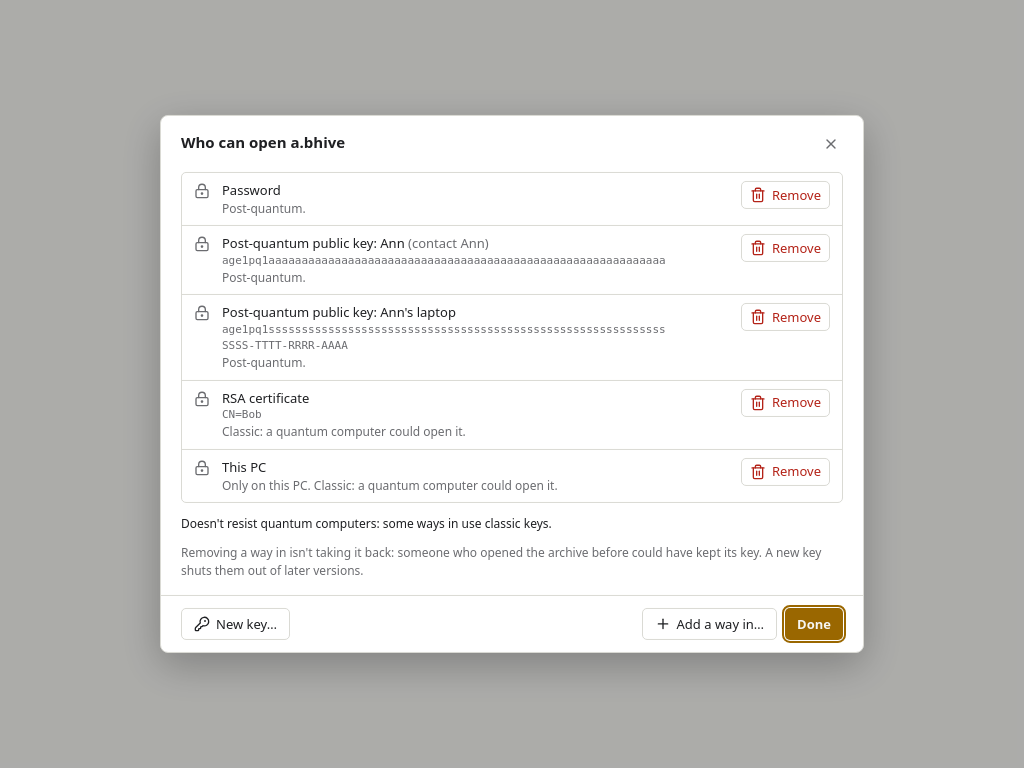
Test: who can open an encrypted .bhive (docs/M14.md §3, §8) › shows a way in's fingerprint when the engine gives one, and says when a certificate has none
expect the list named "Ways in" shows "SSSS-TTTT-RRRR-AAAA": met, box [222,339,348,352]
Click the button "New key…": [236, 624] box [181,608,290,640]
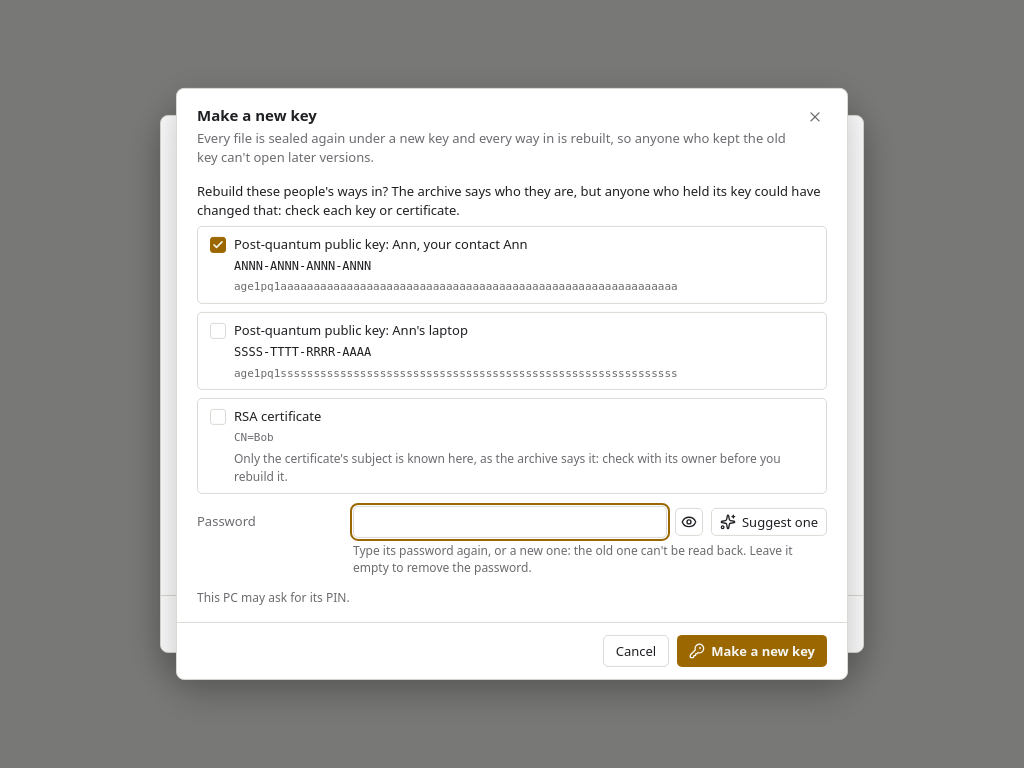
expect the dialog "Make a new key" shows "SSSS-TTTT-RRRR-AAAA": met, box [234,345,371,359]
expect the text "Only the certificate's subject is known here" is shown once: met, box [210,446,814,485]
